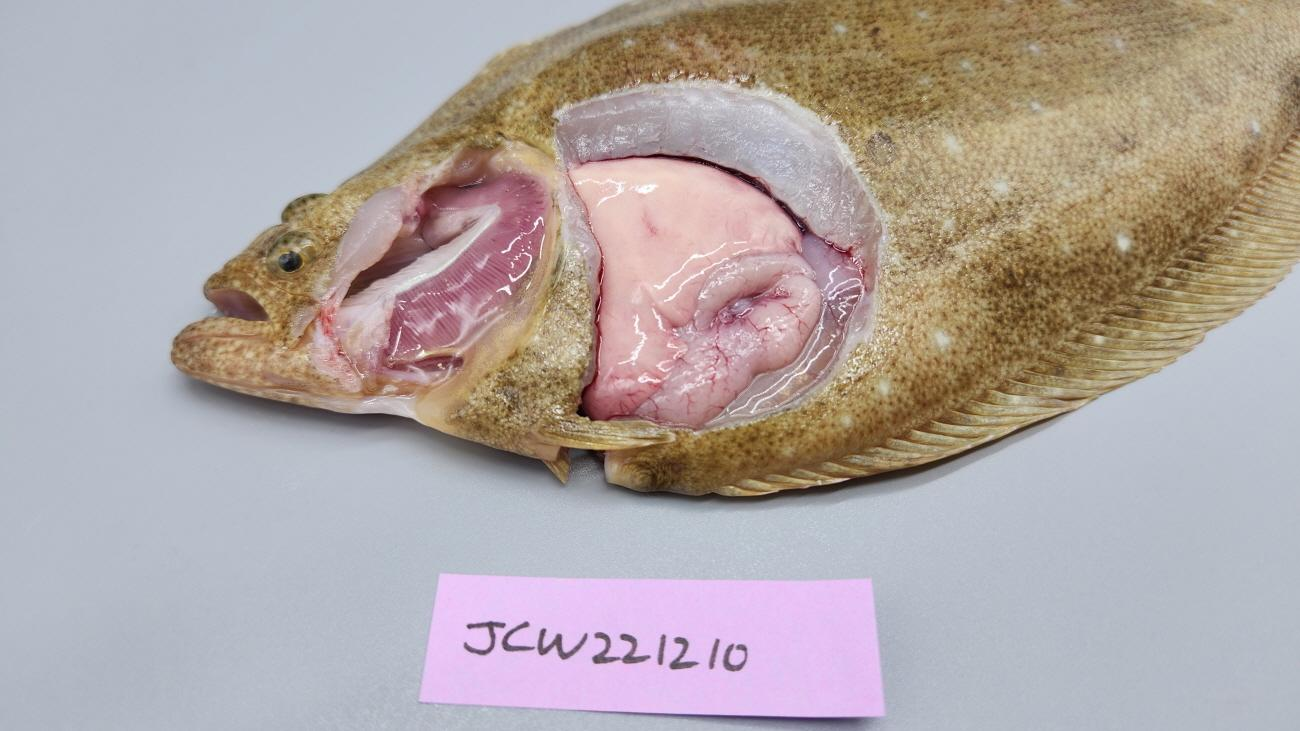SPGIP: (409, 308, 432, 335)
